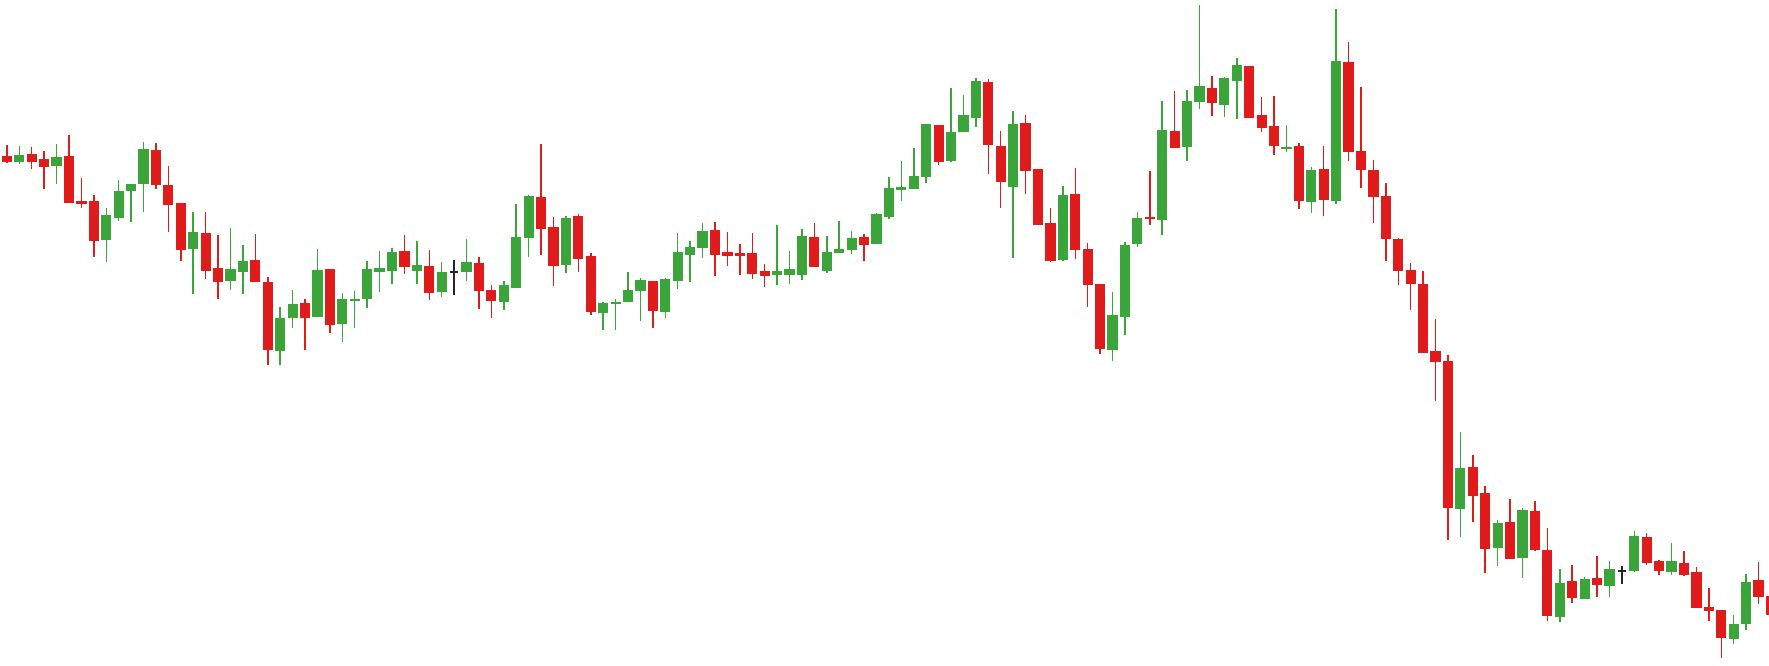buy: (484, 230, 611, 338)
sell: (1230, 10, 1355, 183)
